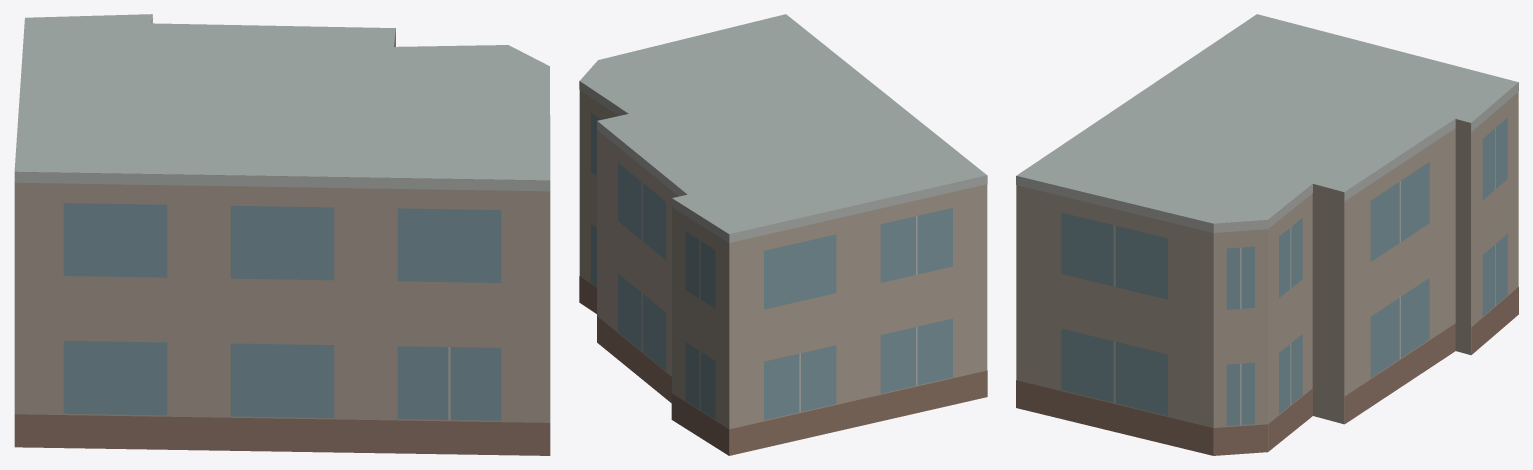
The model's file is survey-upis-32771665.glb.
The picture shows the model from 3 angles, left to right: view 1: azimuth 30°, elevation 25°; view 2: azimuth 150°, elevation 25°; view 3: azimuth 270°, elevation 25°; orthographic projection. The views are drawn at different scales.
Parts seen in each view (by area): view 1: survey-upis-32771665.tmp; view 2: survey-upis-32771665.tmp; view 3: survey-upis-32771665.tmp.
Boxes of the visible parts, x1=… form: survey-upis-32771665.tmp: x1=14, y1=14, x2=550, y2=455; survey-upis-32771665.tmp: x1=579, y1=14, x2=987, y2=455; survey-upis-32771665.tmp: x1=1016, y1=14, x2=1518, y2=455.
Bounding box in the file's own units: 11.82 × 6.1 × 11.97.
